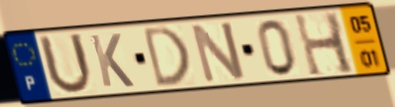0: (254, 16, 300, 79)
D: (140, 24, 193, 91)
H: (291, 10, 358, 79)
K: (87, 32, 137, 89)
N: (188, 19, 248, 86)
U: (35, 32, 95, 98)
